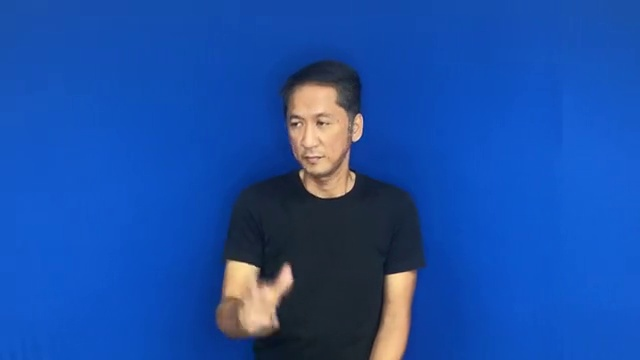chicken: (228, 257, 303, 337)
